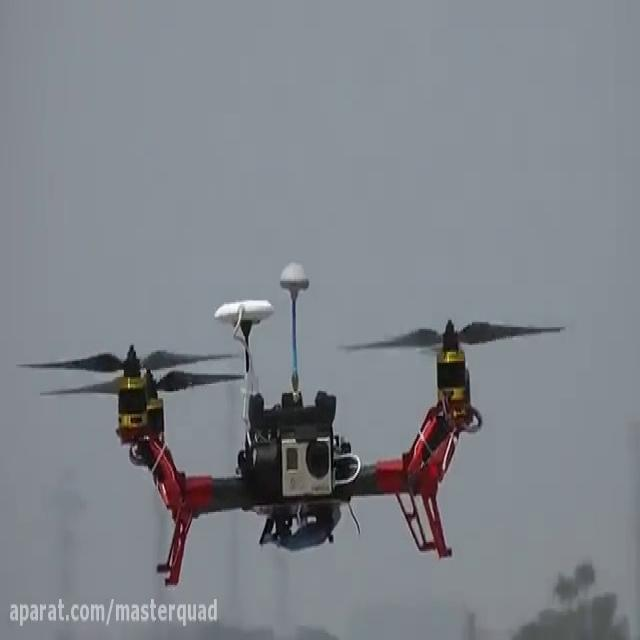drone: (13, 256, 572, 590)
